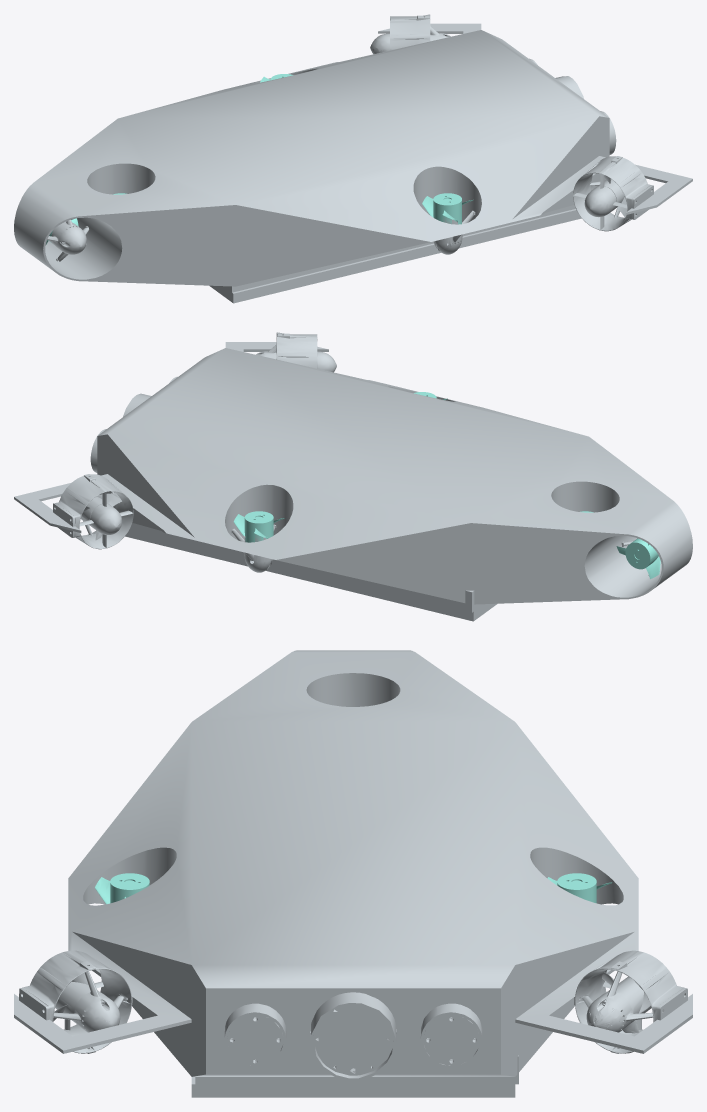
Rendered from rov-v1.glb.
The picture shows the model from 3 angles, top to bottom: view 1: azimuth 30°, elevation 25°; view 2: azimuth 150°, elevation 25°; view 3: azimuth 270°, elevation 25°; orthographic projection. The views are drawn at different scales.
Parts seen in each view (by area): view 1: frame, hardware, enclosure, thruster_1, prop_4_mesh, thruster_4; view 2: frame, hardware, enclosure, prop_3_mesh, prop_1_mesh, thruster_3; view 3: frame, hardware, enclosure, prop_4_mesh, prop_3_mesh.
Part boxes in pixels (bbox=[...]): frame: bbox=[14, 14, 692, 286]; hardware: bbox=[209, 76, 583, 303]; enclosure: bbox=[573, 156, 650, 231]; thruster_1: bbox=[47, 220, 89, 261]; prop_4_mesh: bbox=[422, 193, 473, 224]; thruster_4: bbox=[433, 210, 475, 254]; frame: bbox=[14, 342, 692, 604]; hardware: bbox=[123, 393, 497, 621]; enclosure: bbox=[256, 332, 336, 372]; prop_3_mesh: bbox=[233, 511, 284, 542]; prop_1_mesh: bbox=[616, 538, 660, 579]; thruster_3: bbox=[231, 524, 276, 572]; frame: bbox=[14, 650, 692, 1076]; hardware: bbox=[191, 992, 518, 1097]; enclosure: bbox=[23, 950, 132, 1053]; prop_4_mesh: bbox=[95, 873, 149, 904]; prop_3_mesh: bbox=[547, 873, 612, 903].
Size of the model in its own units: 1 by 0.1676 by 0.7679.
